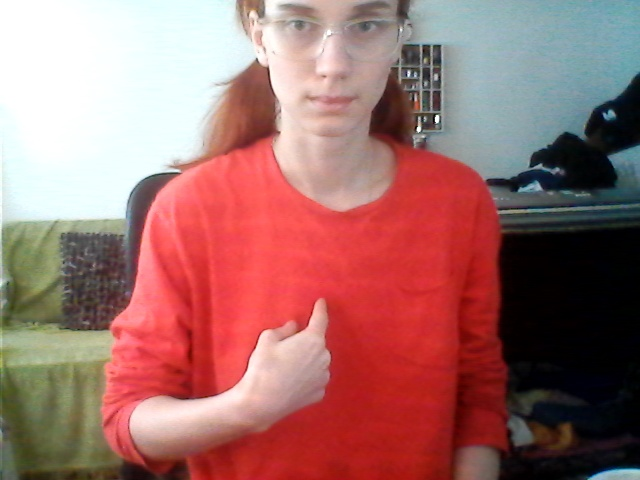ja: (244, 290, 358, 430)
